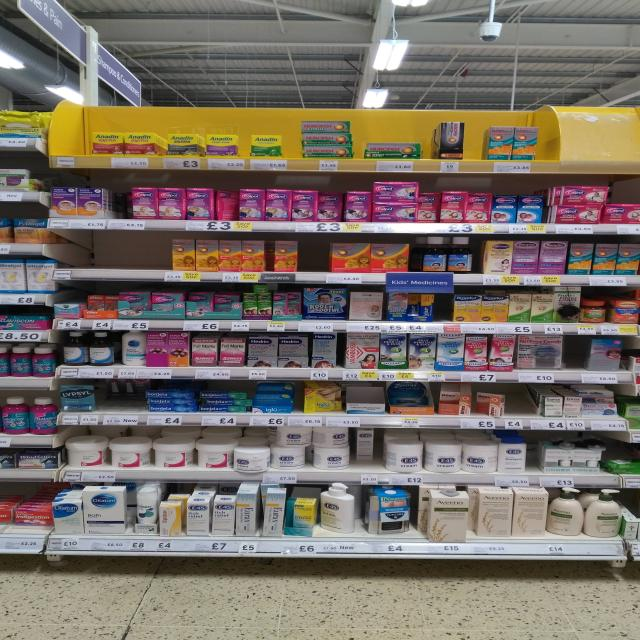void: (50, 230, 79, 280), (506, 382, 537, 428), (109, 230, 135, 280), (108, 170, 129, 231), (537, 114, 558, 174), (141, 230, 165, 281), (81, 231, 106, 279), (301, 234, 329, 276), (59, 128, 88, 168), (466, 115, 485, 172), (527, 431, 546, 487), (423, 121, 441, 171), (282, 134, 302, 170)
